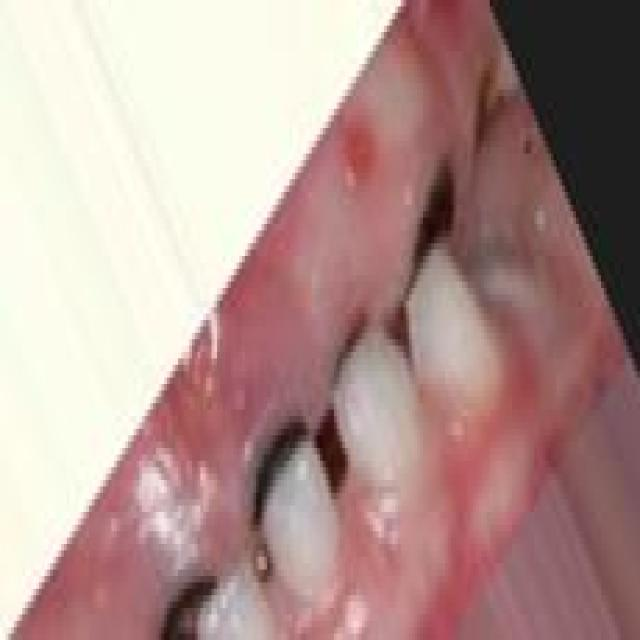caries: (232, 385, 318, 553), (395, 149, 459, 306)
